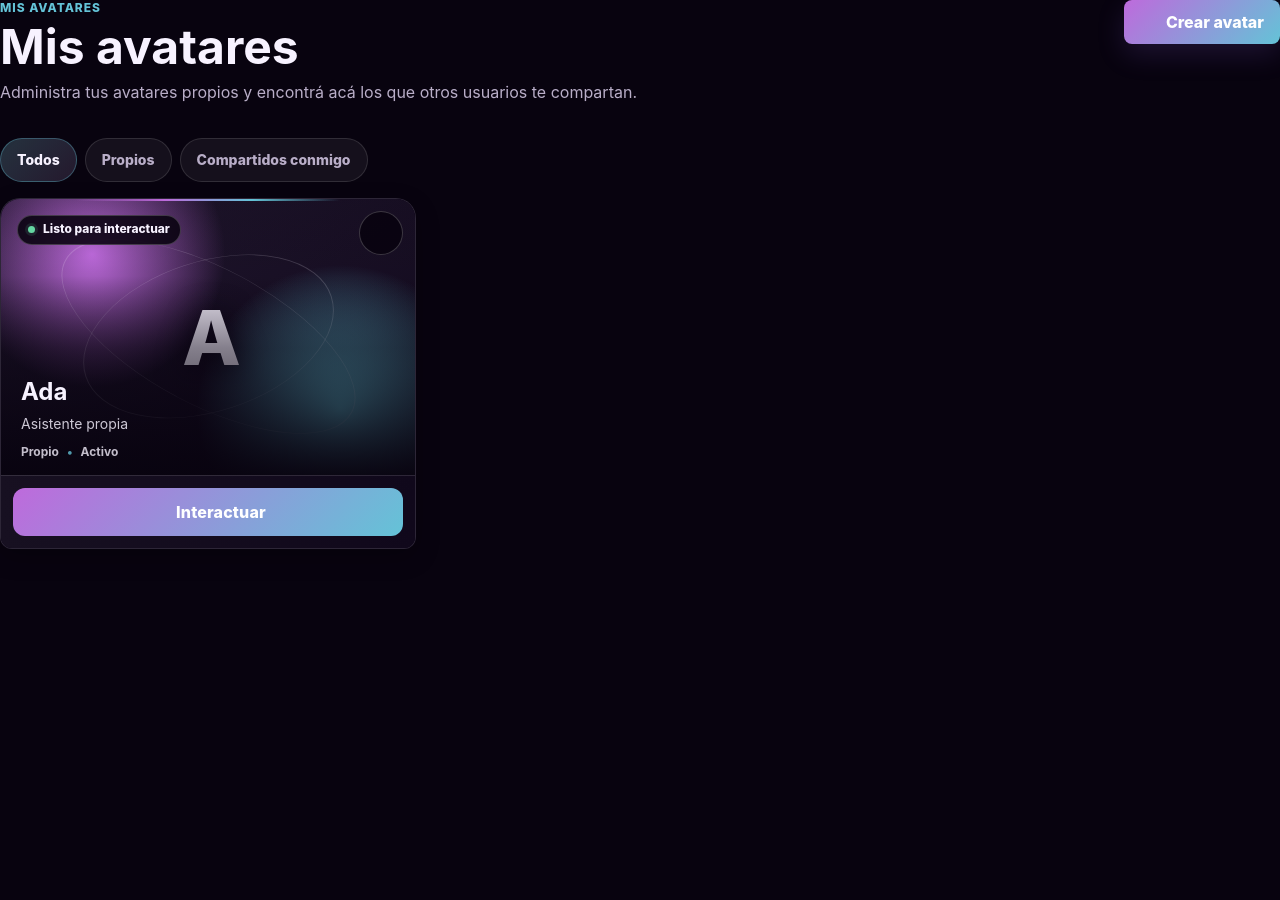
avatar list deletion › shows the empty state after deleting the last visible avatar
Step 1. Click the button named "Más acciones para Ada" → [381, 232], box [359,210,403,254]
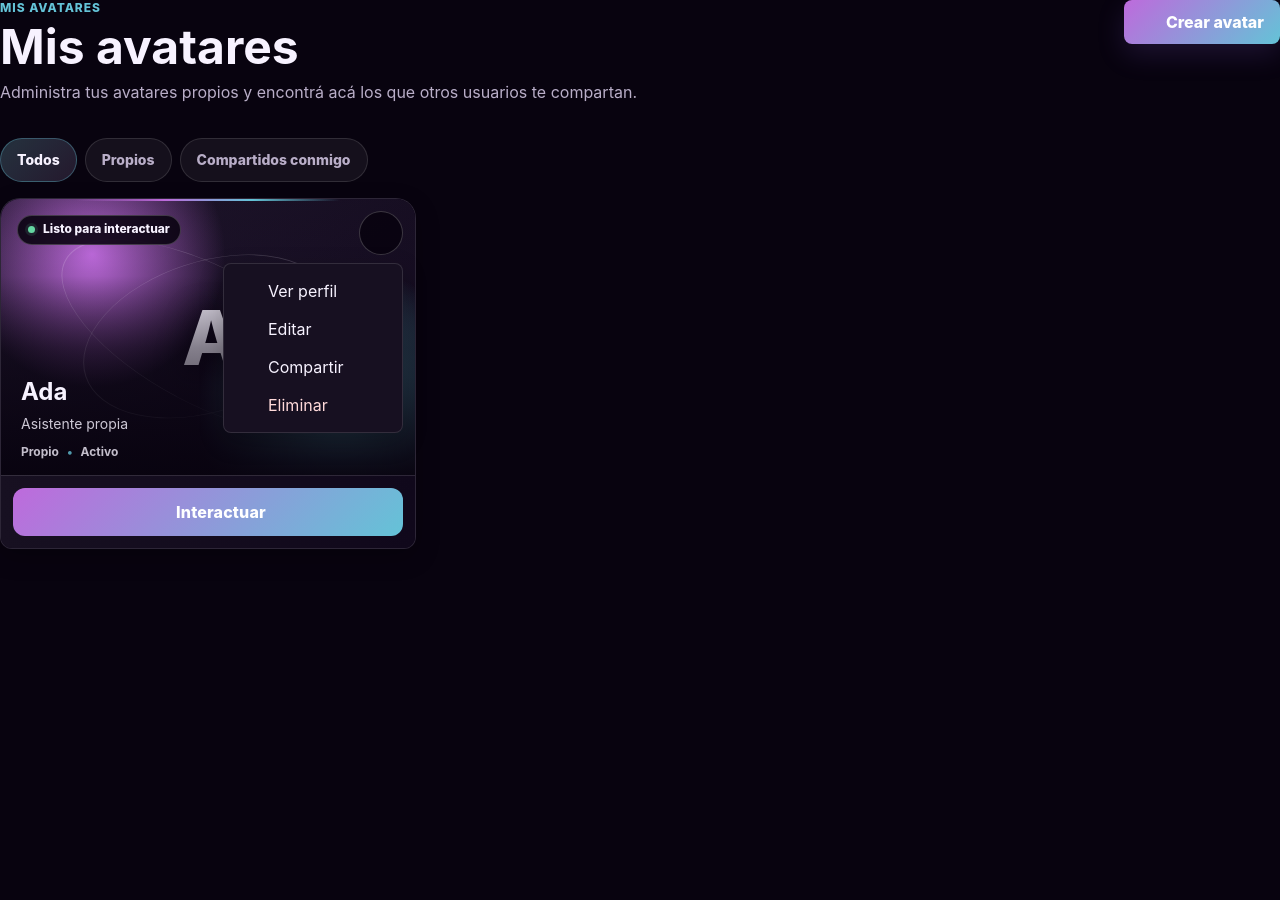
Step 2. Click the menu item "Eliminar" → [313, 404], box [232,386,394,424]
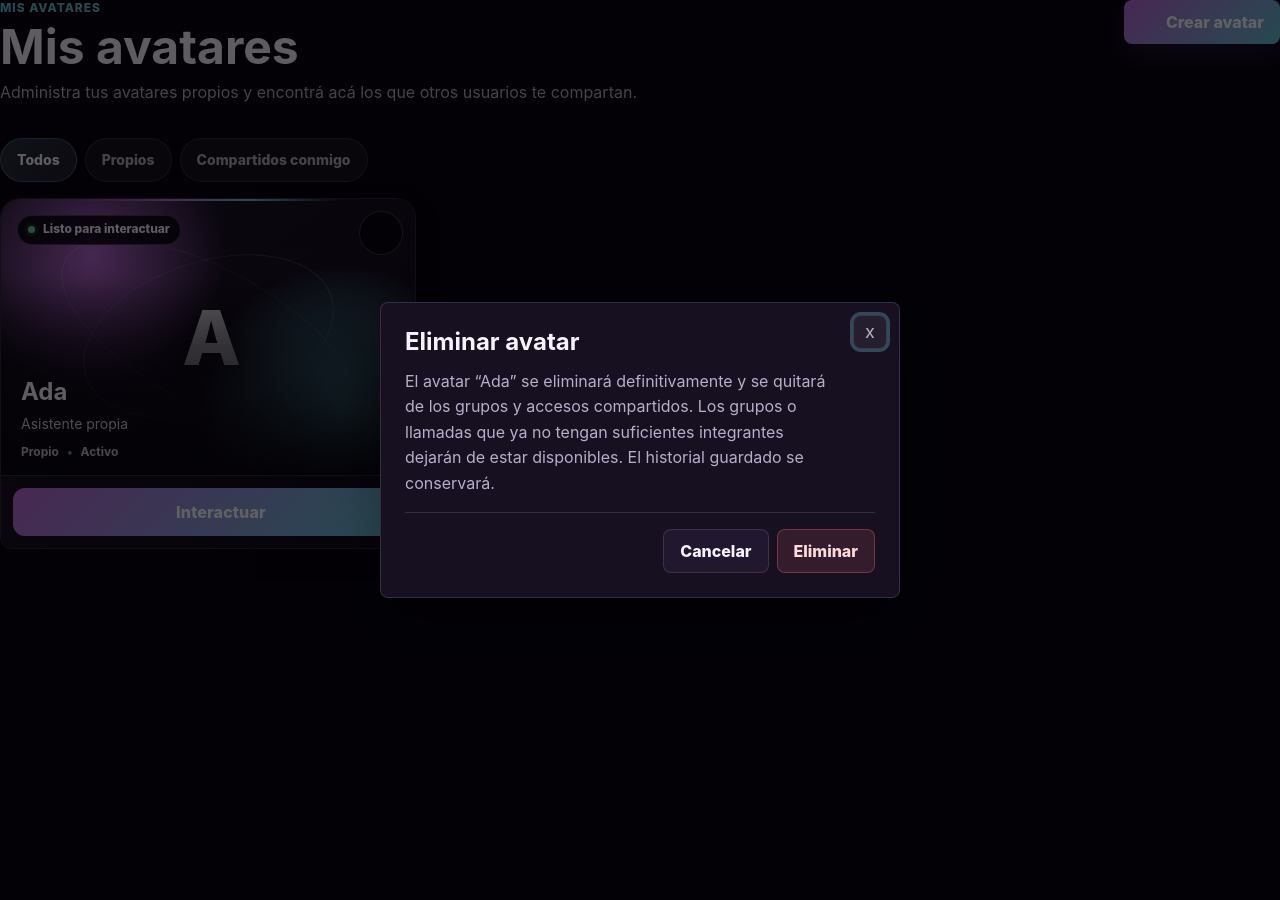
Step 3. Click the button "Eliminar" → [826, 552], box [776,530,875,574]
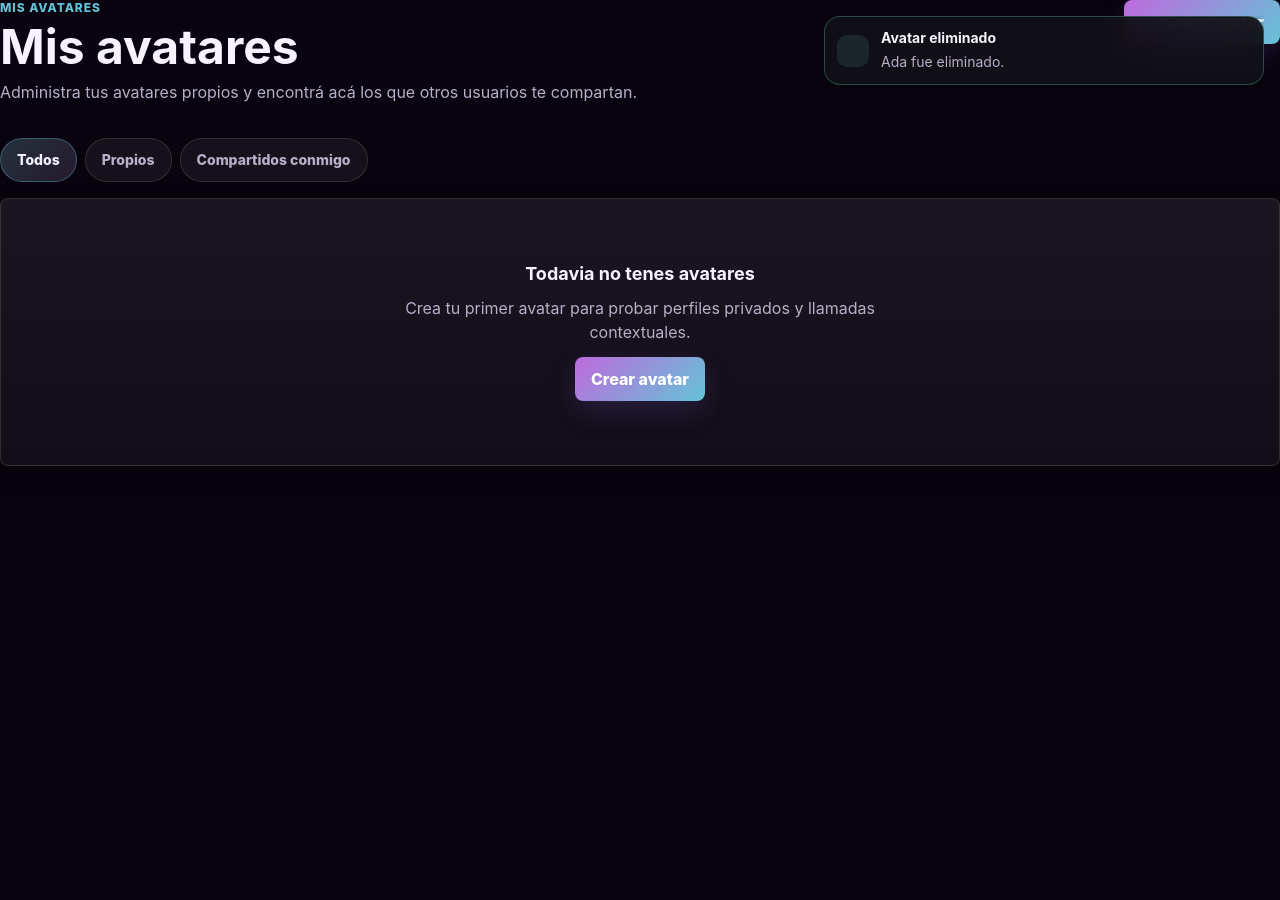
expect the heading "Todavia no tenes avatares" is shown: met, box [525,262,755,284]
